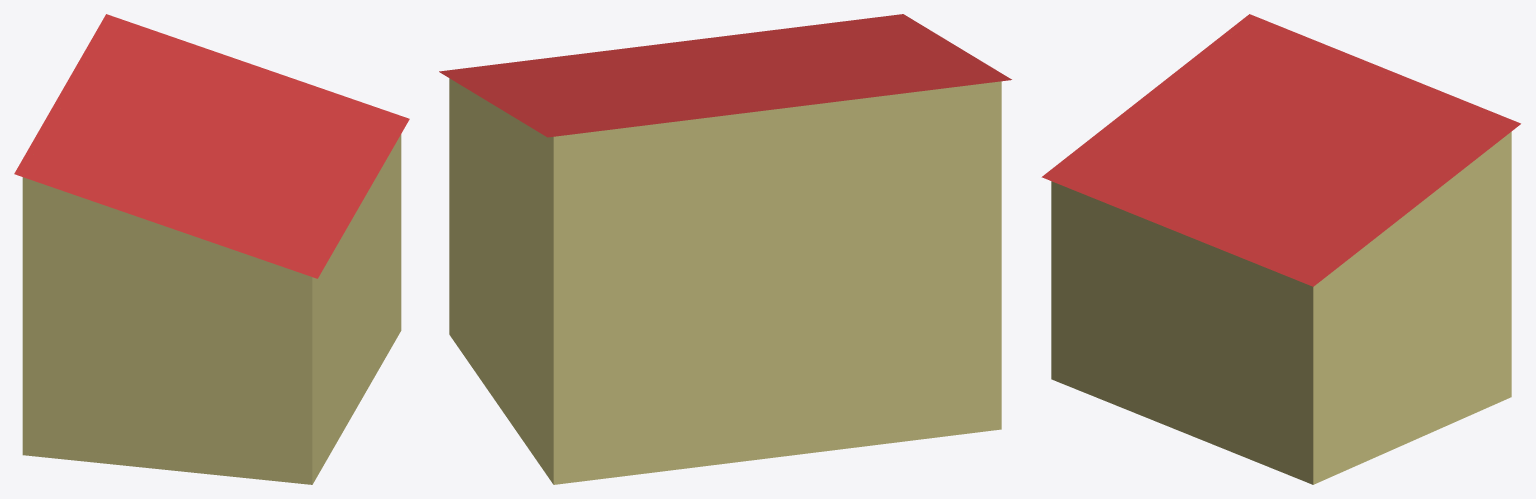
3 views of the same model, side by side, from view 1: azimuth 30°, elevation 25°; view 2: azimuth 150°, elevation 25°; view 3: azimuth 270°, elevation 25° (orthographic). The views are drawn at different scales.
Size of the model in its own units: 17.34 by 17.42 by 10.94.
